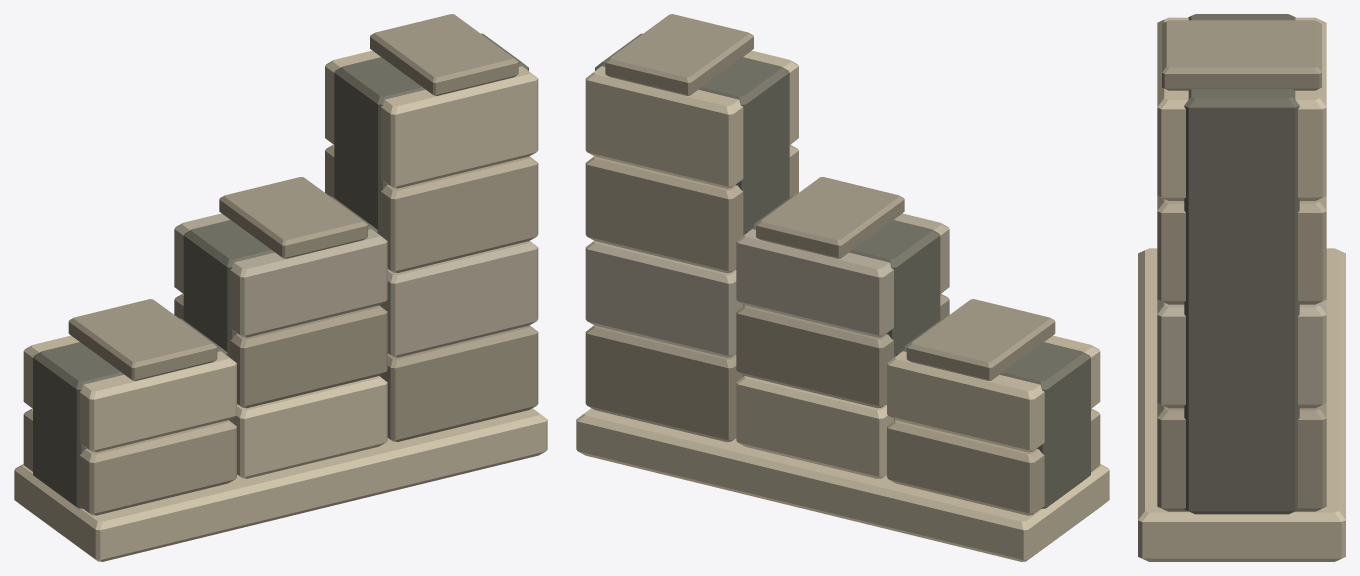
File: Wall_Broken_B_2m.fbx
3 renders of one model, left to right at view 1: azimuth 30°, elevation 25°; view 2: azimuth 150°, elevation 25°; view 3: azimuth 270°, elevation 25°, orthographic. The views are drawn at different scales.
Visible parts, largest first — view 1: Wall_Broken_B_2m; view 2: Wall_Broken_B_2m; view 3: Wall_Broken_B_2m.
Boxes of the visible parts, x1,y1,x2,y2 form: Wall_Broken_B_2m: [14, 14, 547, 561]; Wall_Broken_B_2m: [576, 14, 1109, 561]; Wall_Broken_B_2m: [1138, 14, 1345, 561].
Size of the model in its own units: 2 by 1.67 by 0.65.
